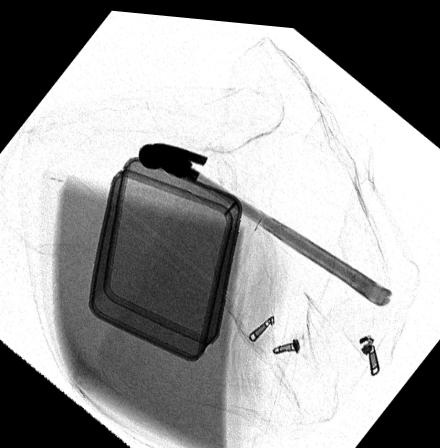Hammer: (138, 140, 392, 298)
